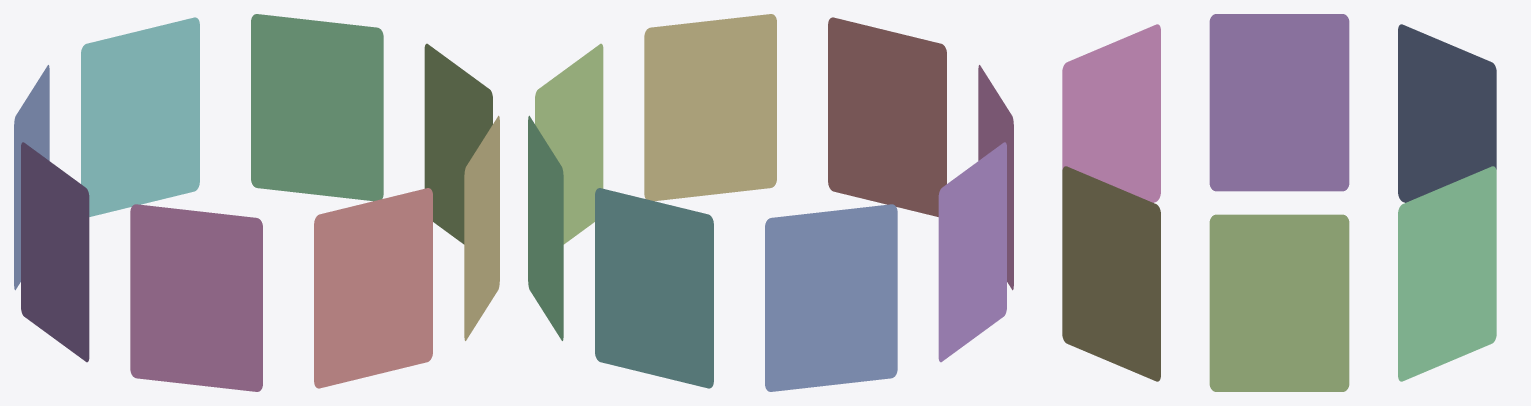
Rendered from carousel.glb.
3 views of the same model, side by side, from view 1: azimuth 30°, elevation 25°; view 2: azimuth 150°, elevation 25°; view 3: azimuth 270°, elevation 25° (orthographic).
Parts seen in each view (by area): view 1: Card_07, Card_03, Card_00, Card_04, Card_06, Card_02, Card_01, Card_05; view 2: Card_05, Card_01, Card_04, Card_00, Card_06, Card_02, Card_03, Card_07; view 3: Card_02, Card_06, Card_01, Card_03, Card_05, Card_07.
Part boxes in pixels (left/top/right/bottom): Card_07: left=130, top=204, right=262, bottom=391; Card_03: left=251, top=14, right=383, bottom=201; Card_00: left=314, top=188, right=432, bottom=388; Card_04: left=81, top=17, right=199, bottom=216; Card_06: left=21, top=142, right=89, bottom=362; Card_02: left=424, top=43, right=492, bottom=244; Card_01: left=464, top=115, right=499, bottom=340; Card_05: left=14, top=65, right=49, bottom=290; Card_05: left=765, top=204, right=897, bottom=391; Card_01: left=644, top=14, right=776, bottom=201; Card_04: left=595, top=188, right=713, bottom=388; Card_00: left=828, top=17, right=946, bottom=216; Card_06: left=938, top=142, right=1006, bottom=362; Card_02: left=535, top=43, right=603, bottom=244; Card_03: left=528, top=115, right=563, bottom=340; Card_07: left=978, top=65, right=1013, bottom=290; Card_02: left=1209, top=214, right=1349, bottom=391; Card_06: left=1209, top=14, right=1349, bottom=191; Card_01: left=1062, top=166, right=1160, bottom=381; Card_03: left=1398, top=166, right=1496, bottom=381; Card_05: left=1398, top=24, right=1496, bottom=202; Card_07: left=1062, top=24, right=1160, bottom=202.
Size of the model in its own units: 6.79 by 2.8 by 6.79.
